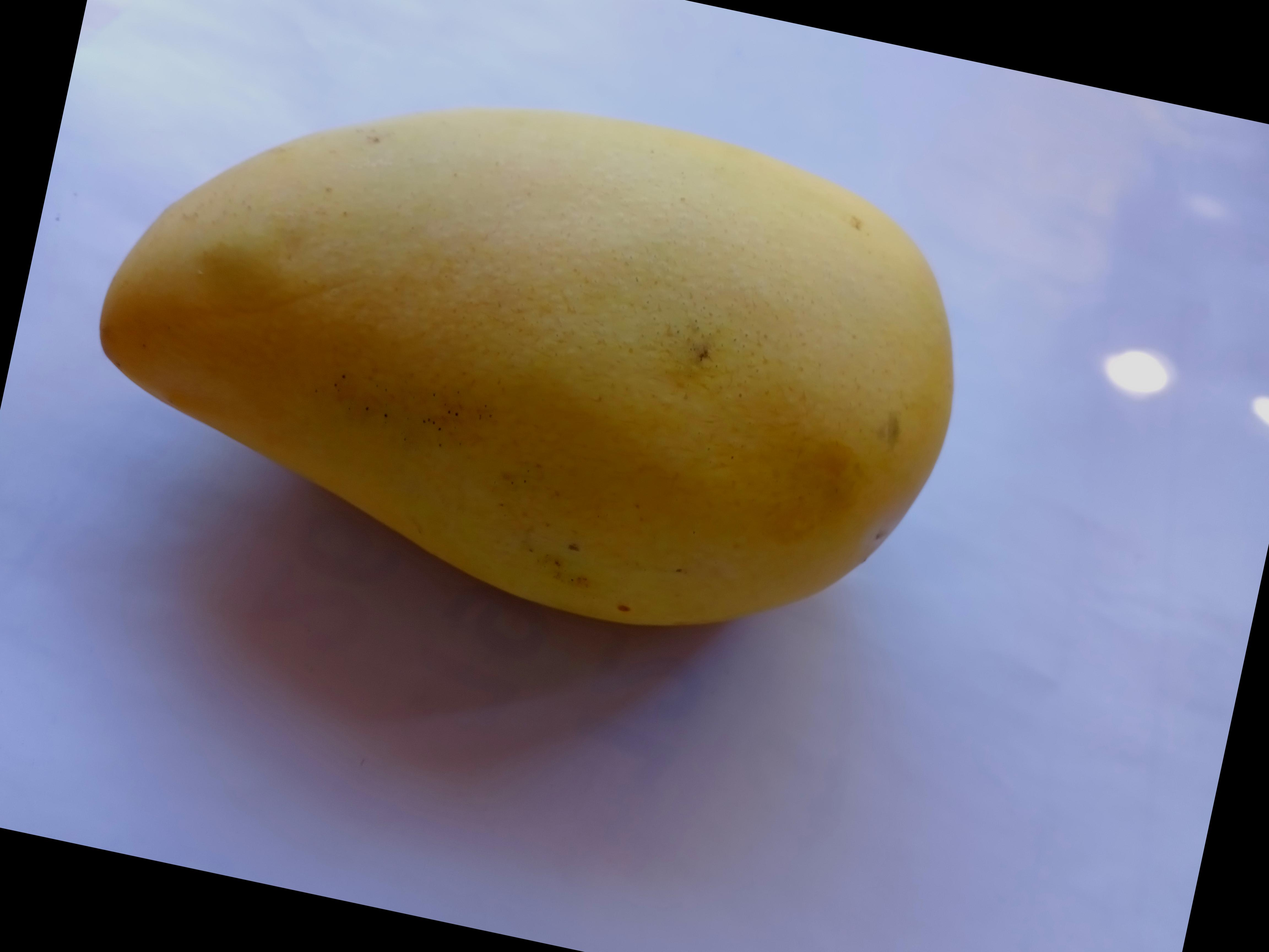Mango Ripe: (159, 0, 1201, 591)
